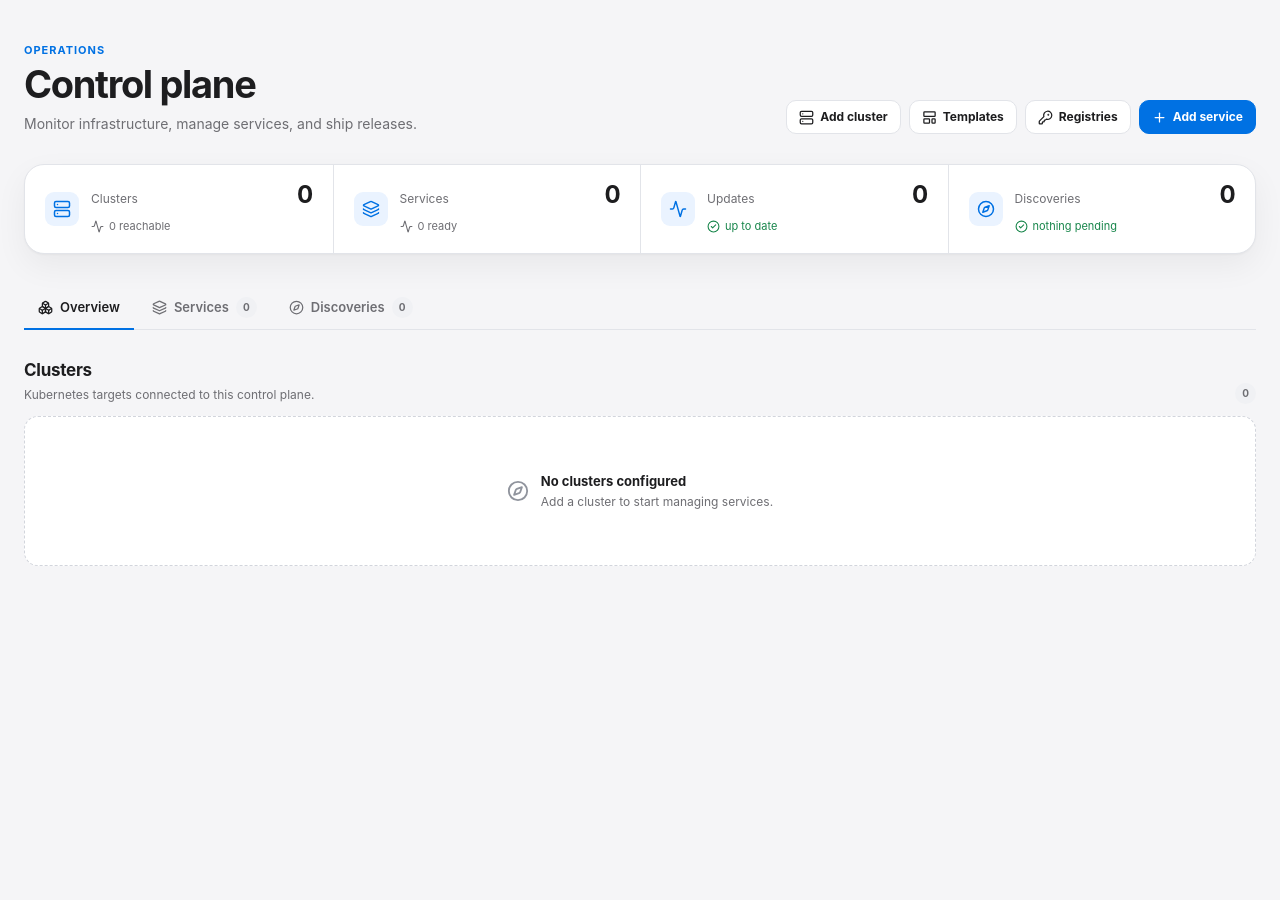
Test: Dashboard › hides the cluster-infrastructure list by default and reveals it on toggle
Step 1. Click the button "Discoveries 0" → (351, 309), box [275,288,426,330]
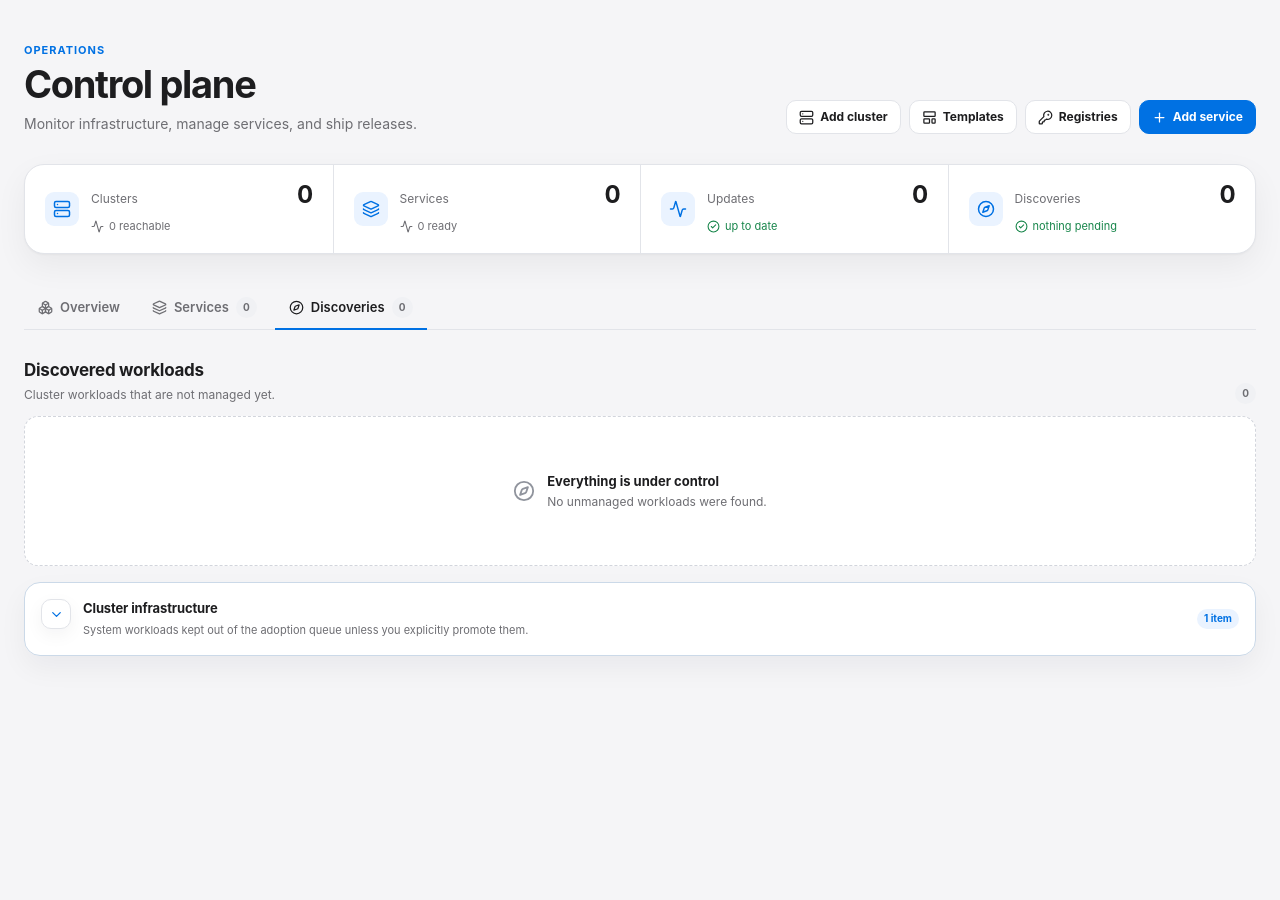
Expected: the text "coredns" is not shown
Expected: the text "Cluster infrastructure" is shown, [83,600,218,616]
Expected: the text "1 item" is shown, [1197,609,1239,629]
Step 2. Click the button "Cluster infrastructure" → (150, 608), box [37,595,1243,643]
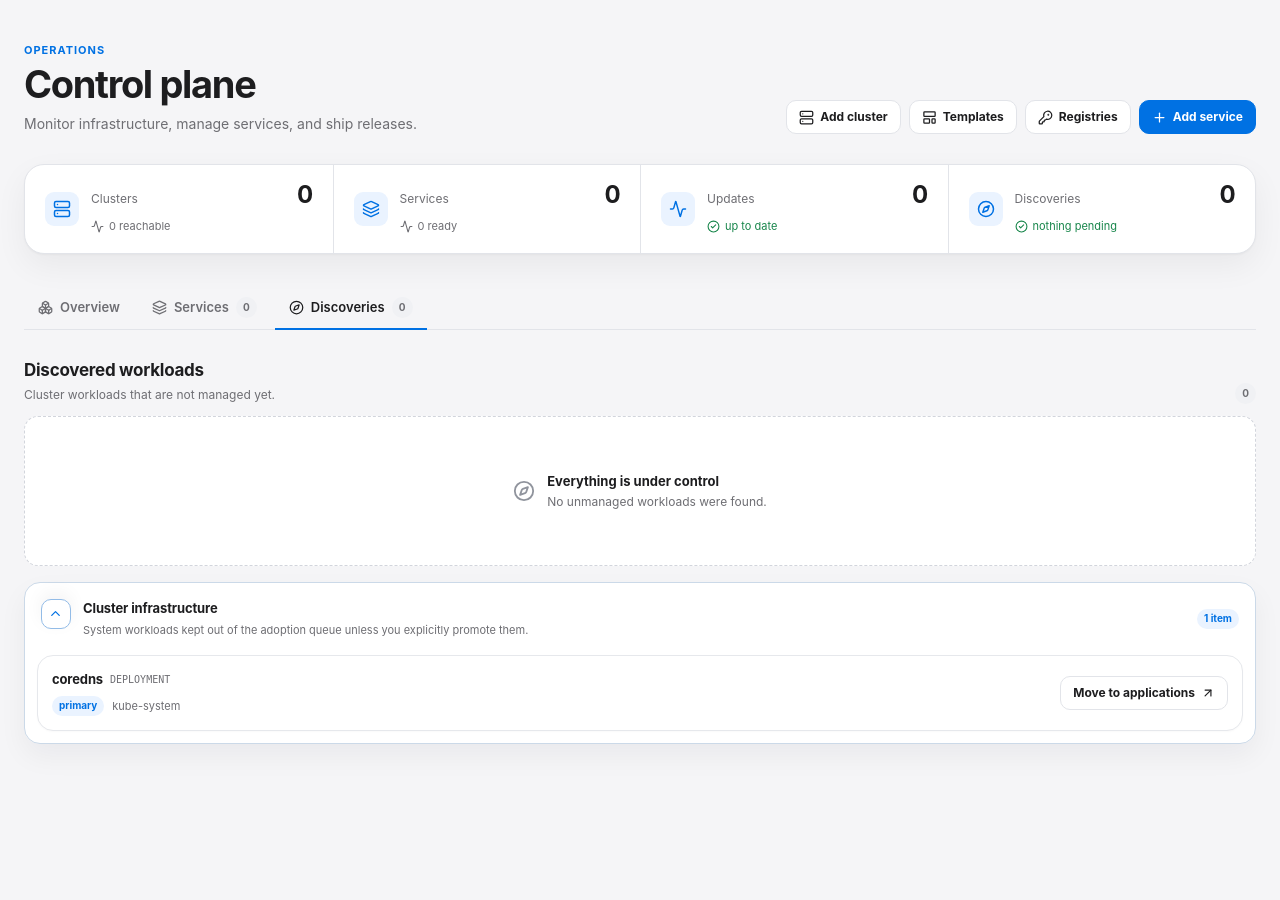
Expected: the text "coredns" is shown, [52,670,103,689]
Expected: the text "kube-system" is shown, [112,698,180,714]
Expected: the button "Move to applications" is shown, [1060,676,1228,710]
